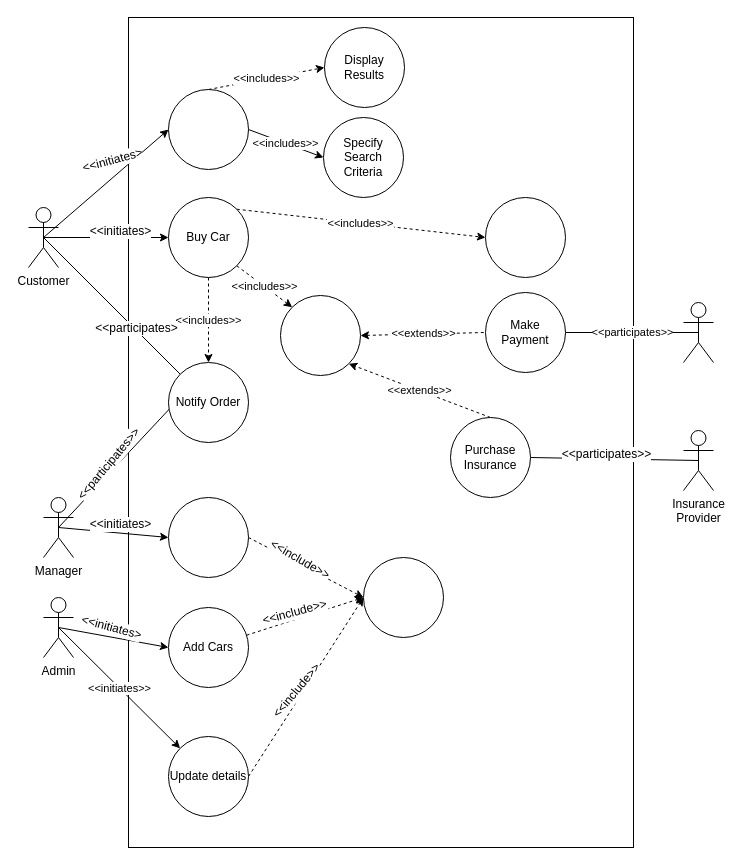
This 742x865 diagram has some shape labels left out. The shapes that lost their labels are listed below. From the top down, each one's centre as x and y in pixels, then its label:
(208,129): Search Cars
(525,237): Compute Price
(320,335): Input details
(698,332): Payment Provider
(208,537): Generate Report
(403,597): Authentication
